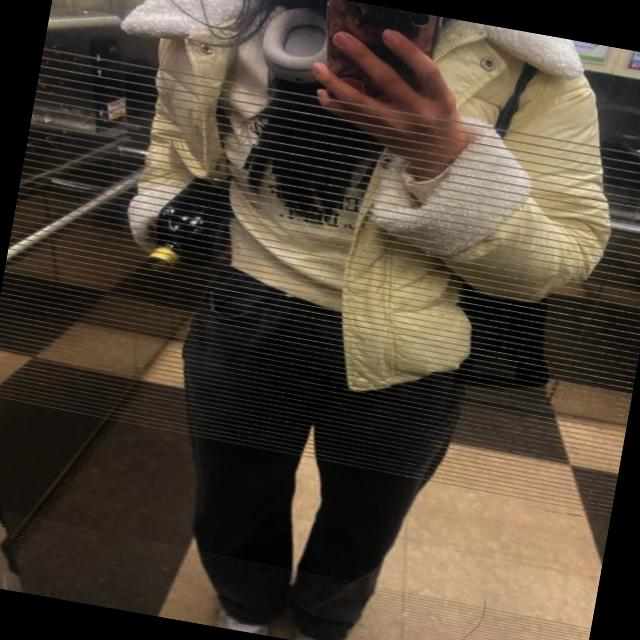denimpants: (138, 258, 482, 640)
padding: (66, 0, 640, 429)
